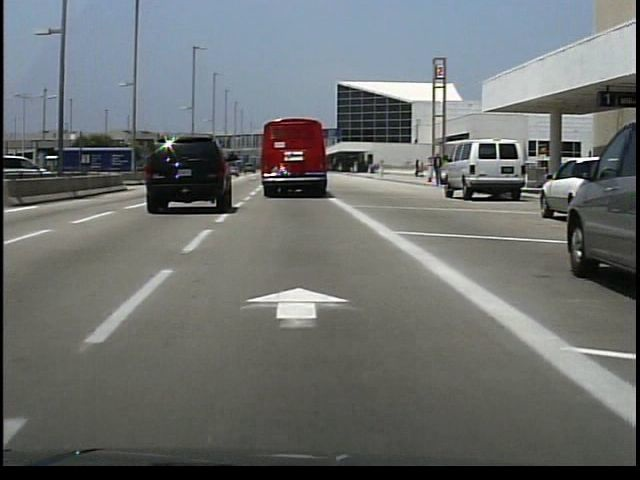person: (432, 154, 445, 192)
